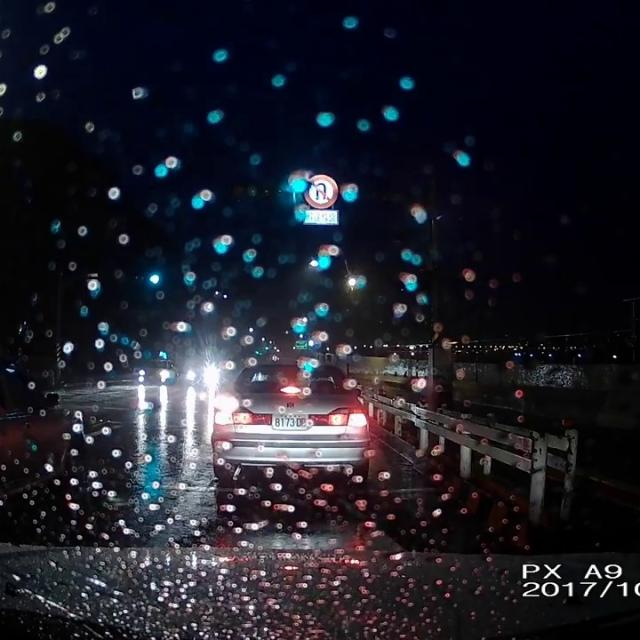Car: (209, 360, 370, 485), (0, 346, 86, 488), (134, 356, 179, 385), (183, 353, 220, 388)
